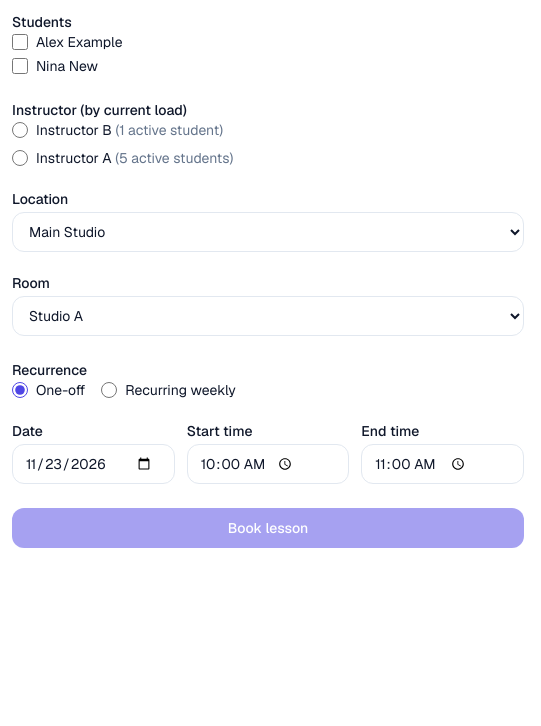
BookingForm › shows the cross-instructor-reason prompt (preset reasons + note field) when the selected instructor differs from the student's current assignment
Click the checkbox labelled "Alex Example": (20, 42) [12,34,28,50]
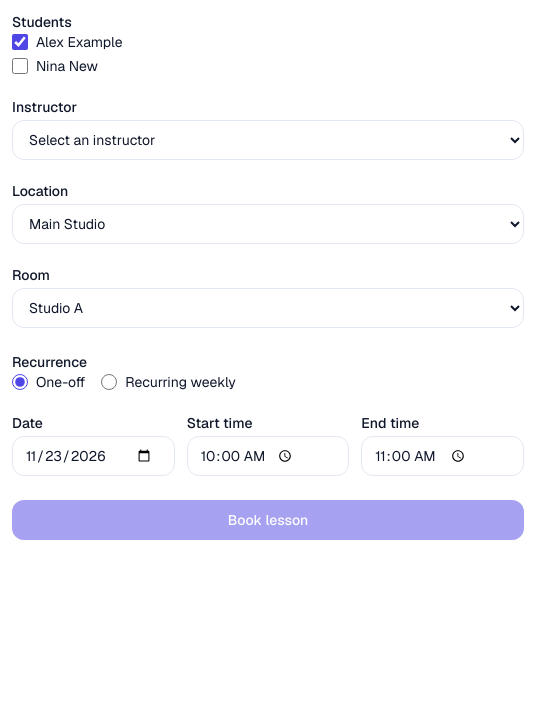
Select "Instructor B" in the dropdown labelled "Instructor": (268, 140) [12,120,524,160]
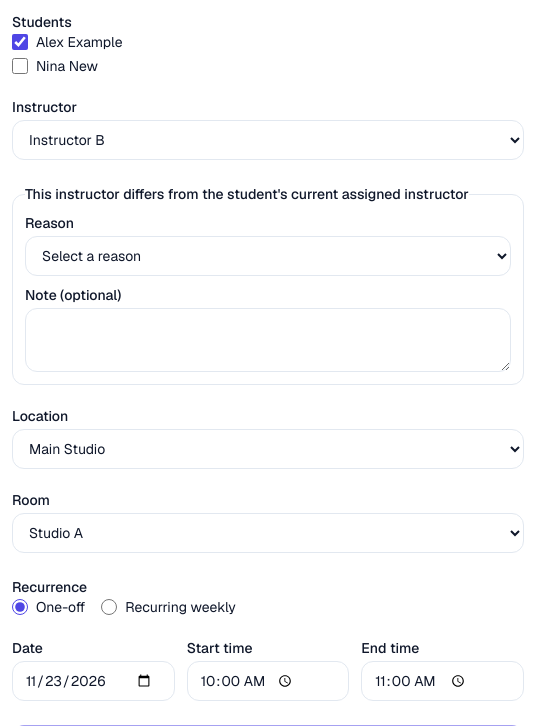
Expected: the dropdown labelled "Reason" is shown, [25,236,511,276]
Expected: the text box labelled "Note (optional)" is shown, [25,308,511,372]
